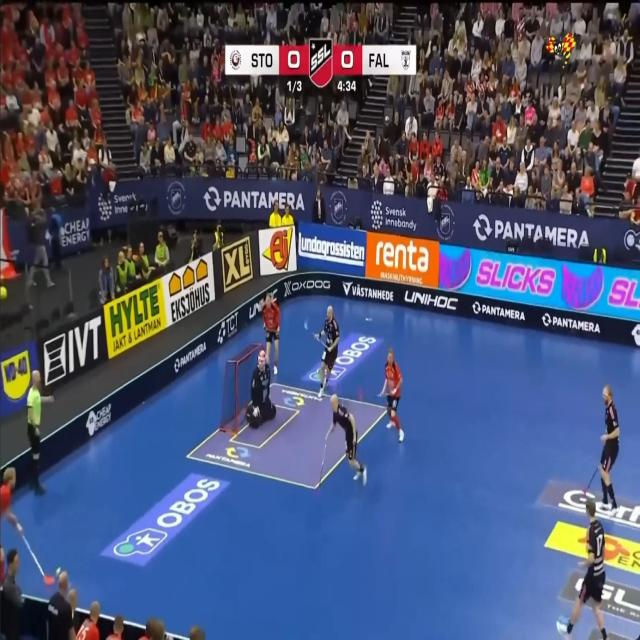Balls: (55, 566, 61, 577)
player: (556, 499, 606, 639), (327, 394, 367, 484), (600, 385, 620, 509), (246, 350, 275, 428), (381, 348, 404, 442), (317, 306, 339, 396), (262, 292, 280, 374)
stick: (22, 537, 55, 585), (318, 428, 330, 488), (304, 320, 323, 346), (585, 466, 599, 493), (358, 387, 369, 401), (378, 379, 387, 396)
